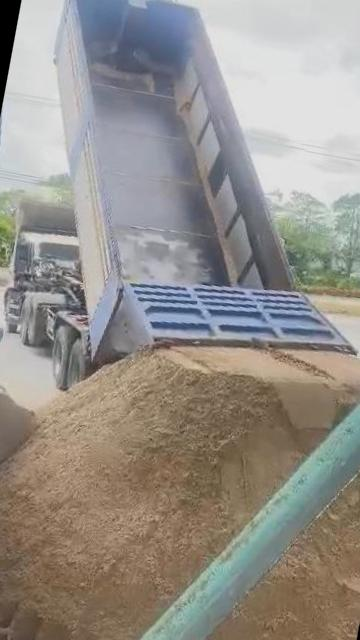sand: (0, 348, 360, 640), (175, 447, 360, 640), (0, 369, 36, 494)
